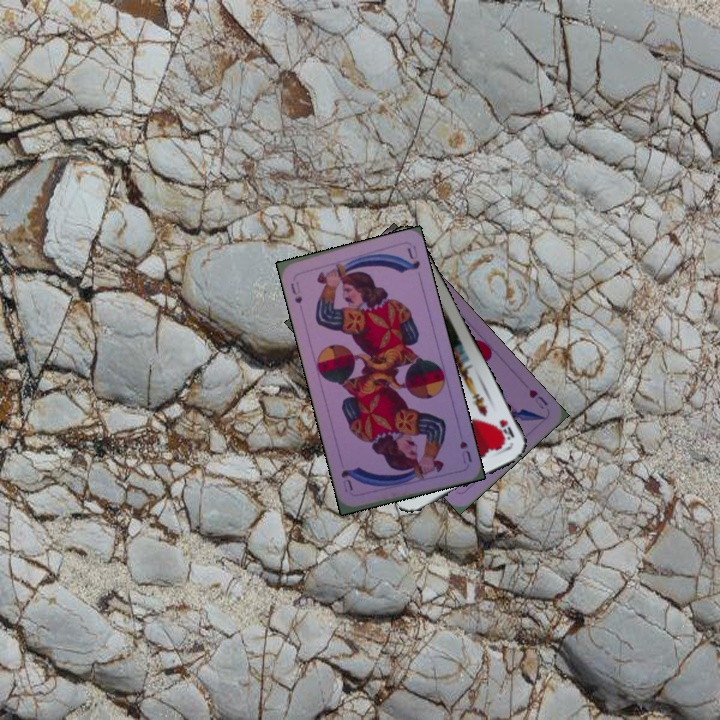HK: (492, 415, 517, 447)
HU: (525, 385, 550, 412)
SU: (286, 277, 305, 306), (456, 437, 474, 466)
